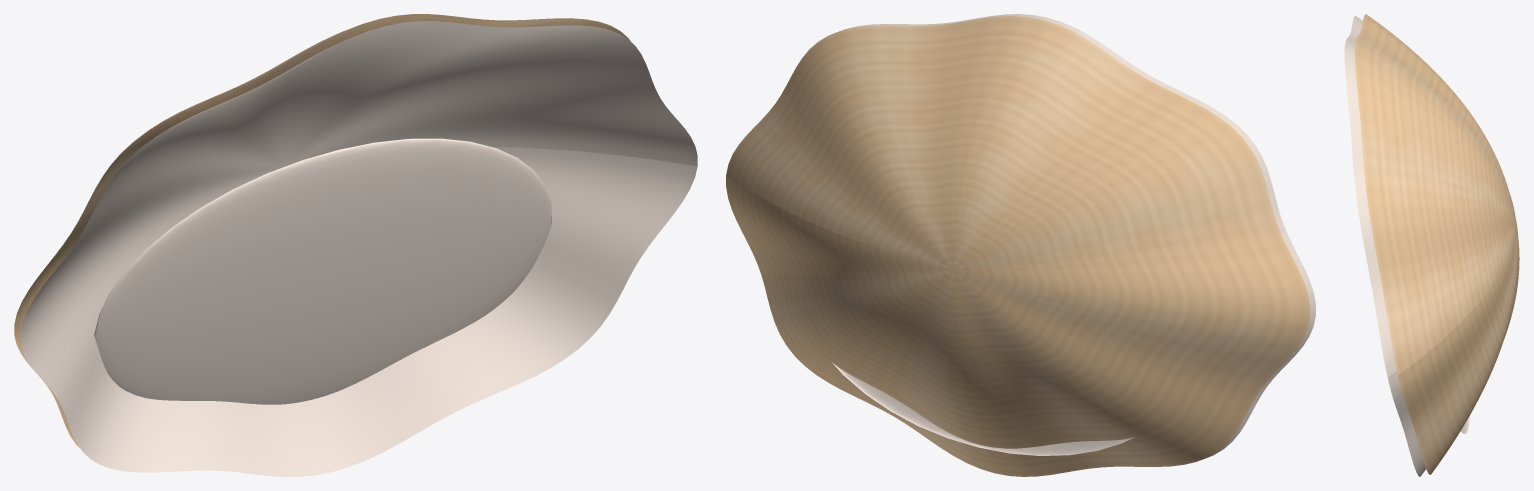
File: slipper-shell.glb
3 views of the same model, side by side, from view 1: azimuth 30°, elevation 25°; view 2: azimuth 150°, elevation 25°; view 3: azimuth 270°, elevation 25° (orthographic). The views are drawn at different scales.
Parts seen in each view (by area): view 1: slipper-shell; view 2: slipper-shell; view 3: slipper-shell.
Boxes of the visible parts, x1,y1,x2,y2 form: slipper-shell: (14, 14, 697, 476); slipper-shell: (726, 14, 1315, 476); slipper-shell: (1344, 14, 1519, 476).
Bounding box in the file's own units: 2.5 × 1.72 × 0.7047.
